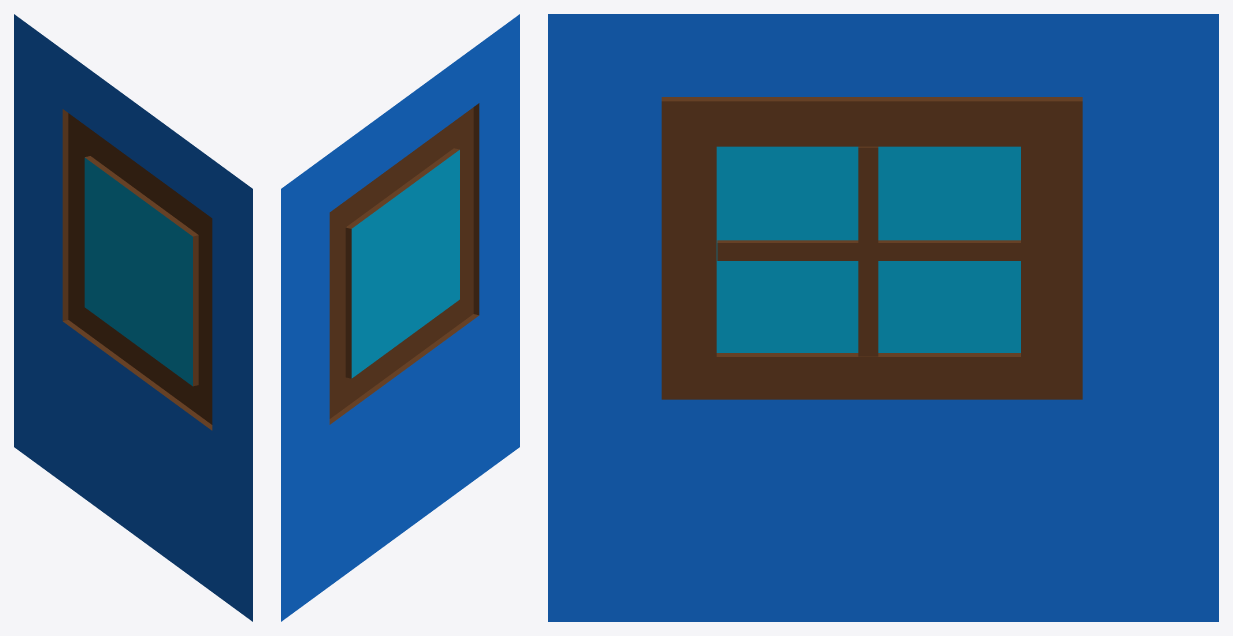
Rendered from windowWall.fbx.
The picture shows the model from 3 angles, left to right: view 1: azimuth 30°, elevation 25°; view 2: azimuth 150°, elevation 25°; view 3: azimuth 270°, elevation 25°; orthographic projection. The views are drawn at different scales.
Visible parts, largest first — view 1: Plane; view 2: Plane; view 3: Plane, windowSill, innerSill_right, innerSill_left.
Part boxes in pixels (left/top/right/bottom): Plane: left=14, top=14, right=252, bottom=621; Plane: left=281, top=14, right=519, bottom=621; Plane: left=548, top=14, right=1218, bottom=621; windowSill: left=858, top=146, right=878, bottom=356; innerSill_right: left=878, top=240, right=1020, bottom=260; innerSill_left: left=717, top=240, right=858, bottom=260.
Size of the model in its own units: 3.33 by 200 by 200.
